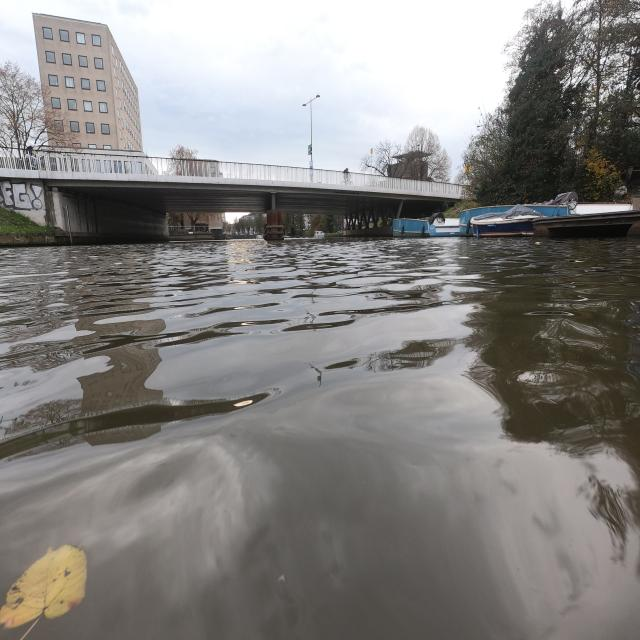boat: (470, 205, 543, 237), (392, 213, 461, 238), (459, 205, 512, 234)
dock: (534, 210, 640, 238), (0, 233, 64, 246)
grass: (0, 205, 53, 235)
sky: (12, 6, 528, 166)
tree: (448, 6, 638, 200)
wall: (62, 192, 172, 242)
water: (0, 238, 640, 640)
